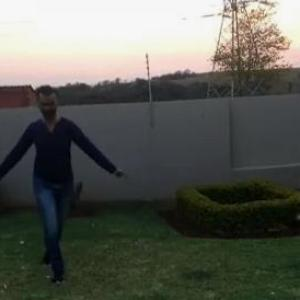land: (1, 85, 105, 248)
